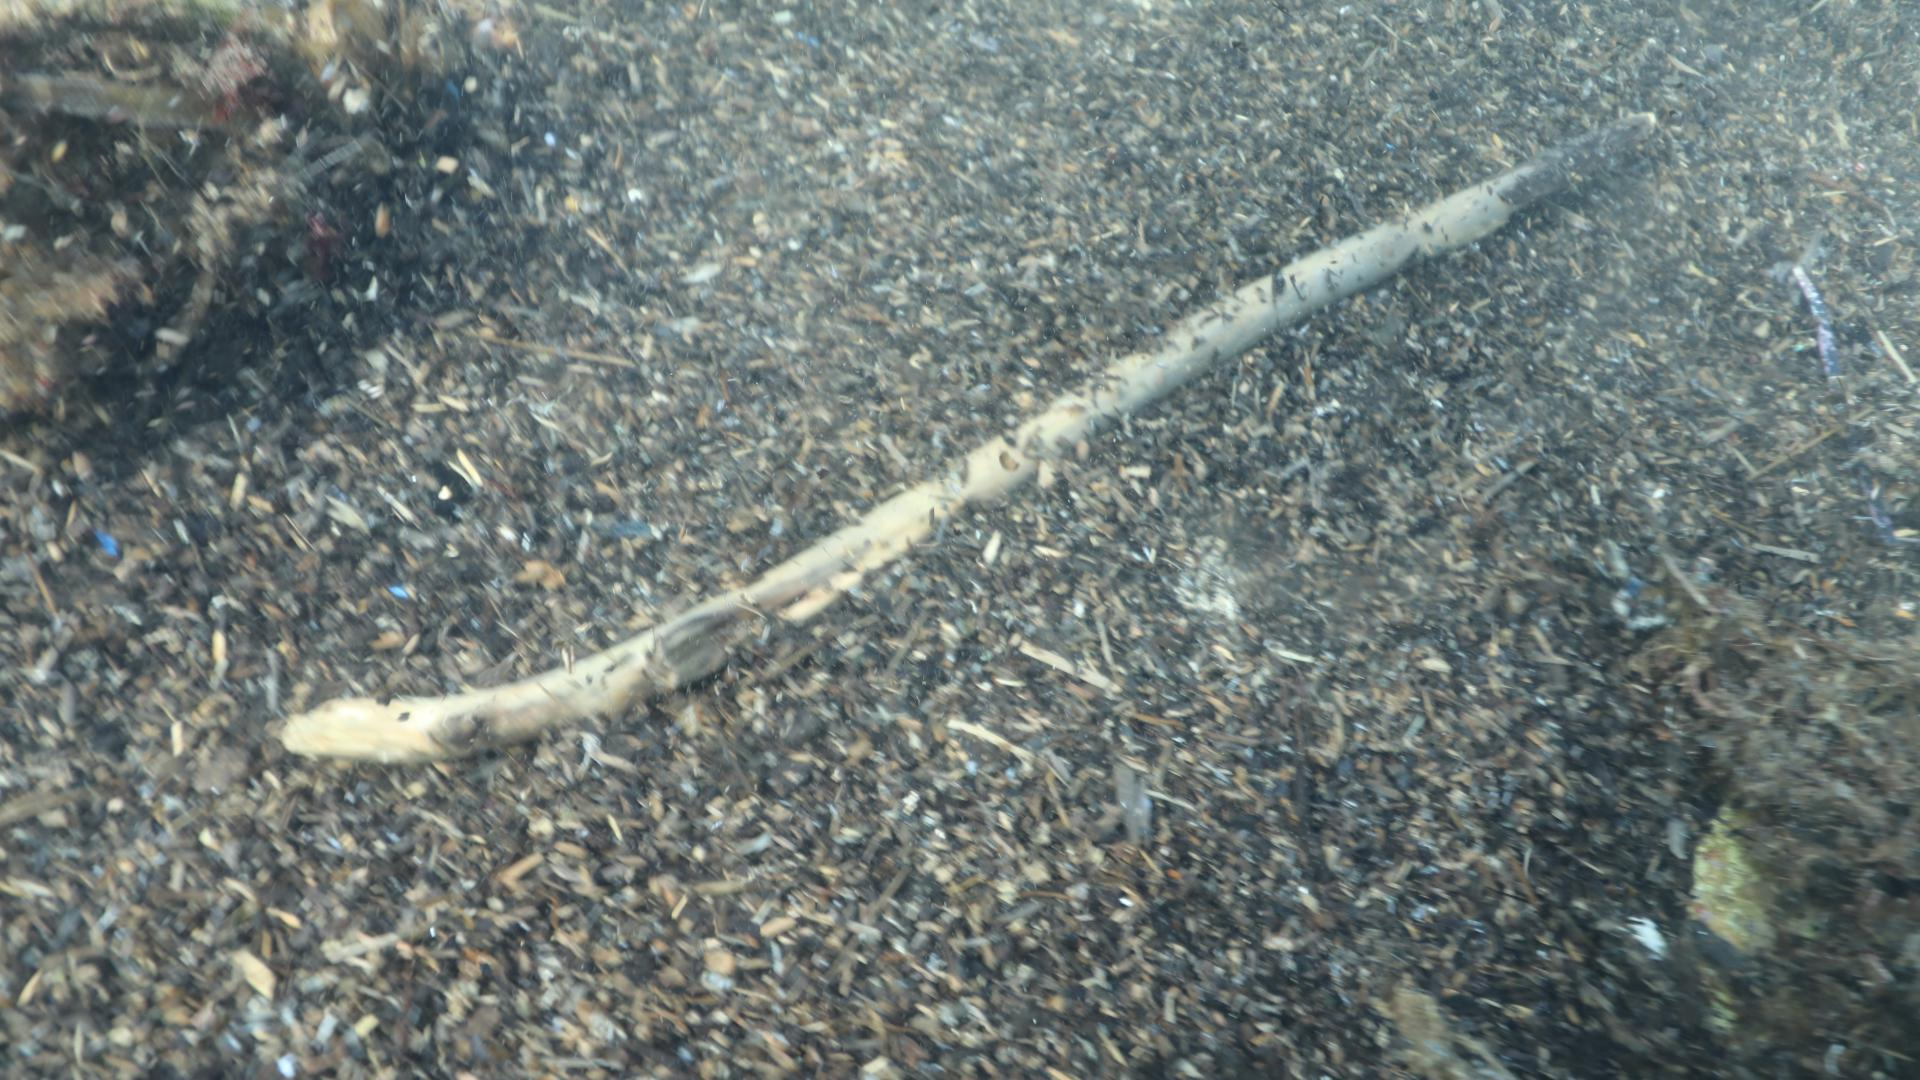wood: (281, 109, 1662, 760)
